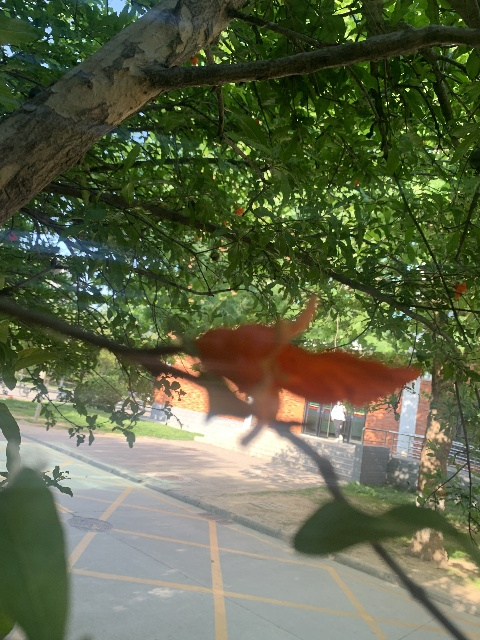flower: (194, 298, 423, 428), (453, 282, 467, 300)
